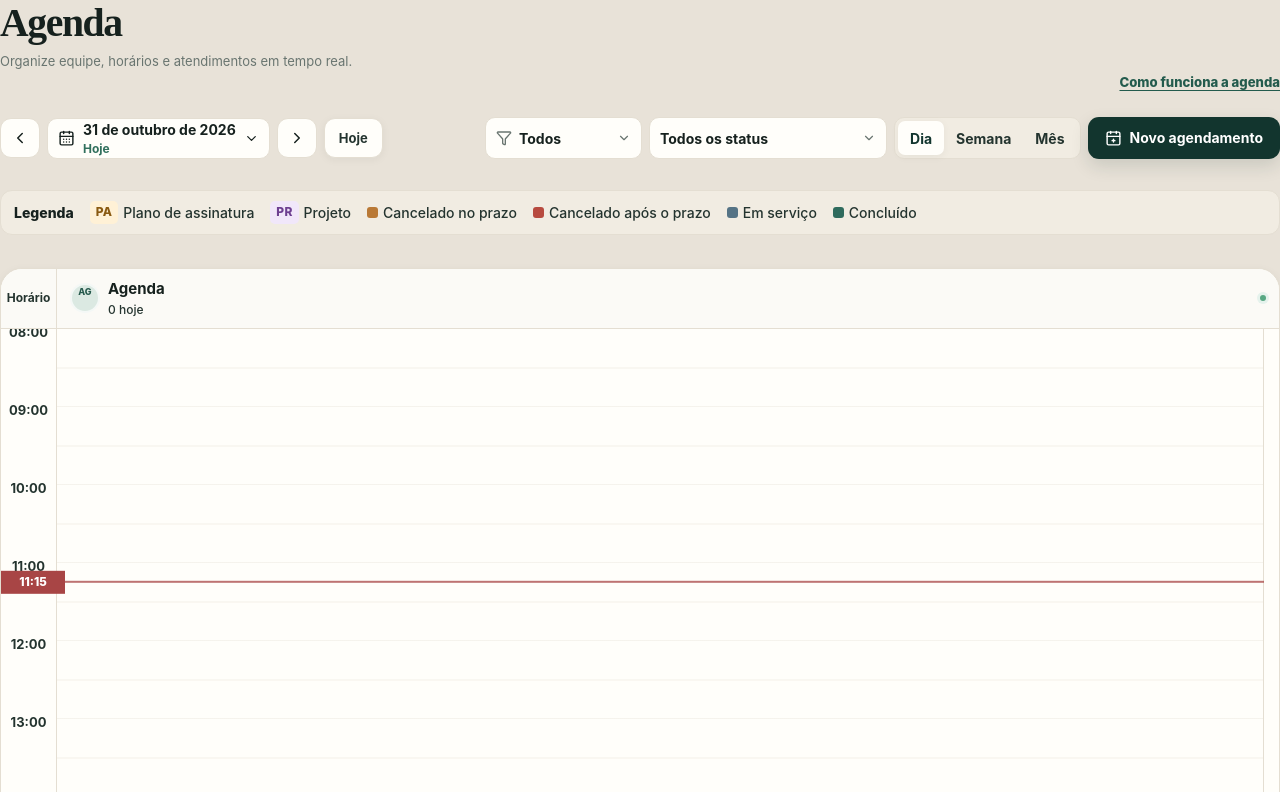
Test: connected manager UI › permite buscar um cliente real antes de criar o agendamento
Click the button "Novo agendamento" at [1184, 138], box [1088,117,1279,159]
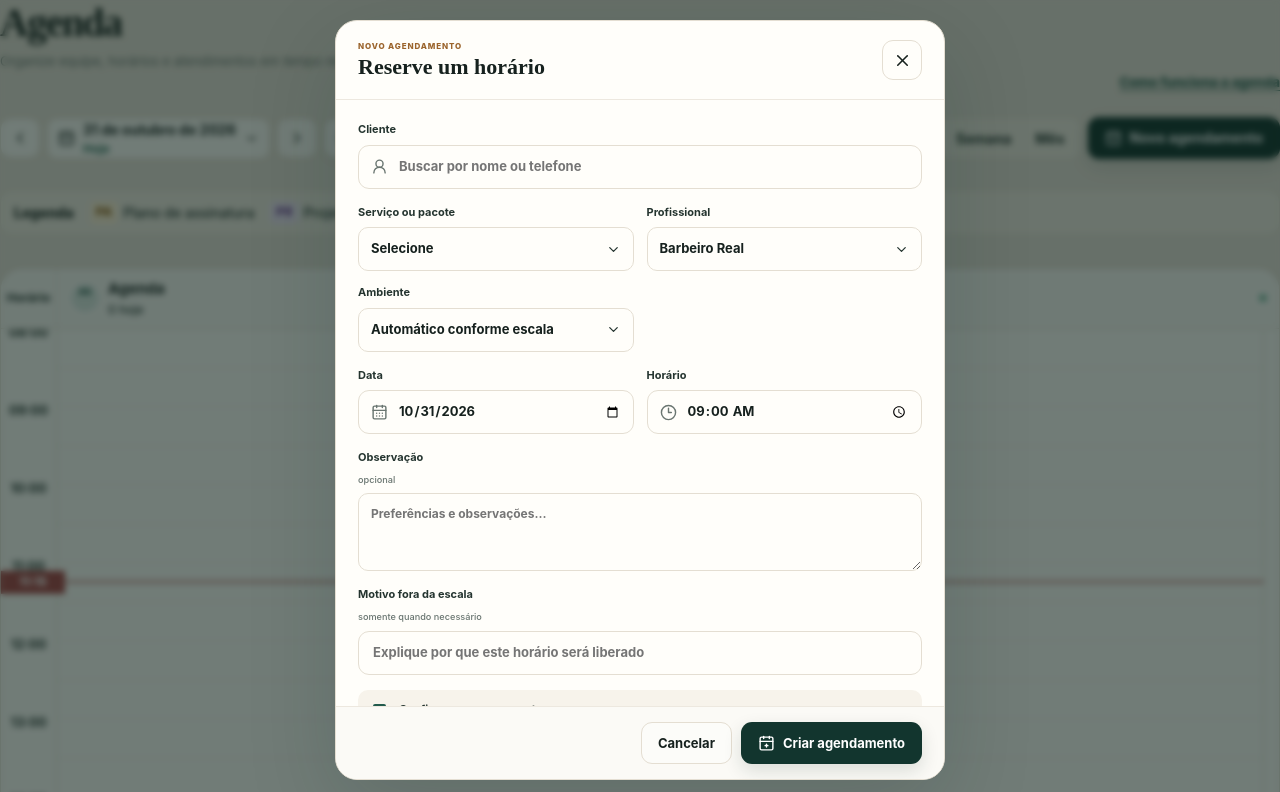
Type "Real" into the field with placeholder "Buscar por nome ou telefone" at [653, 167], box [397,156,909,177]
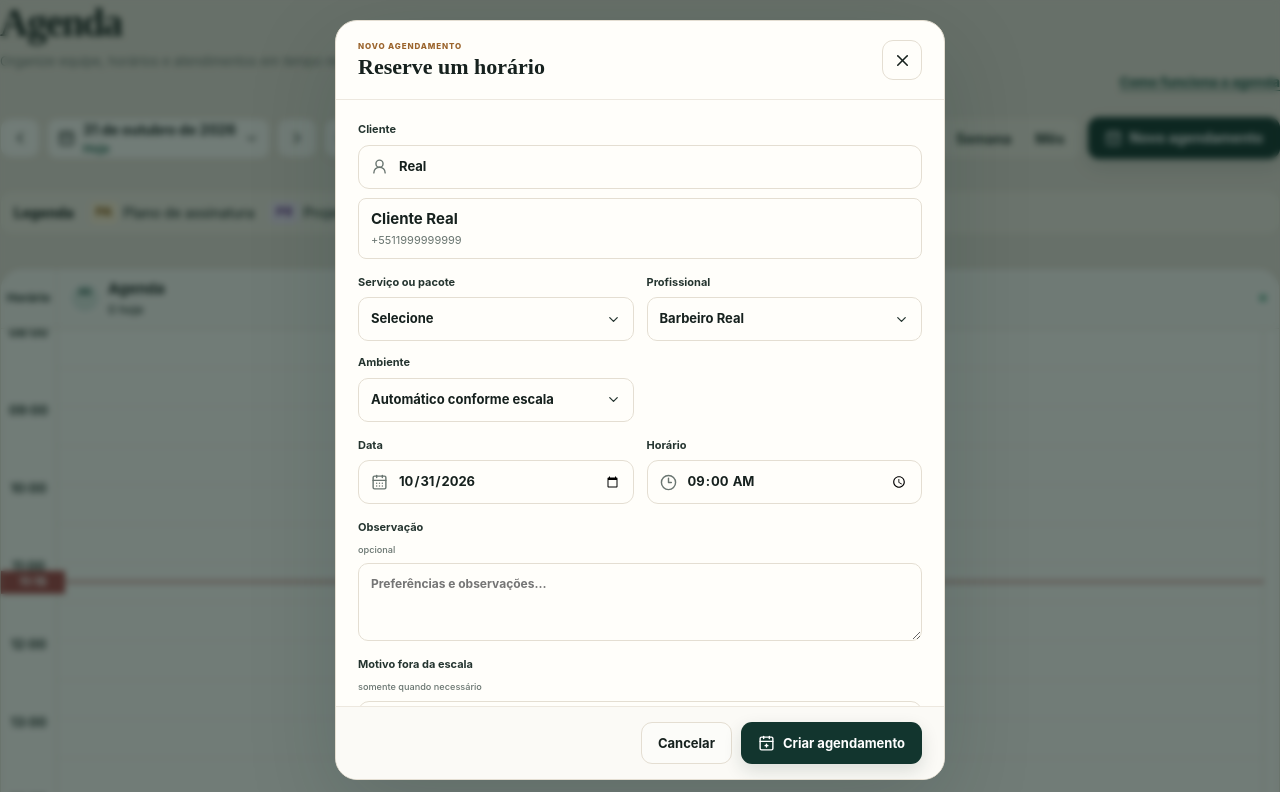
Now the button with aria-label "Selecionar Cliente Real" is shown, box [358,198,922,258]
